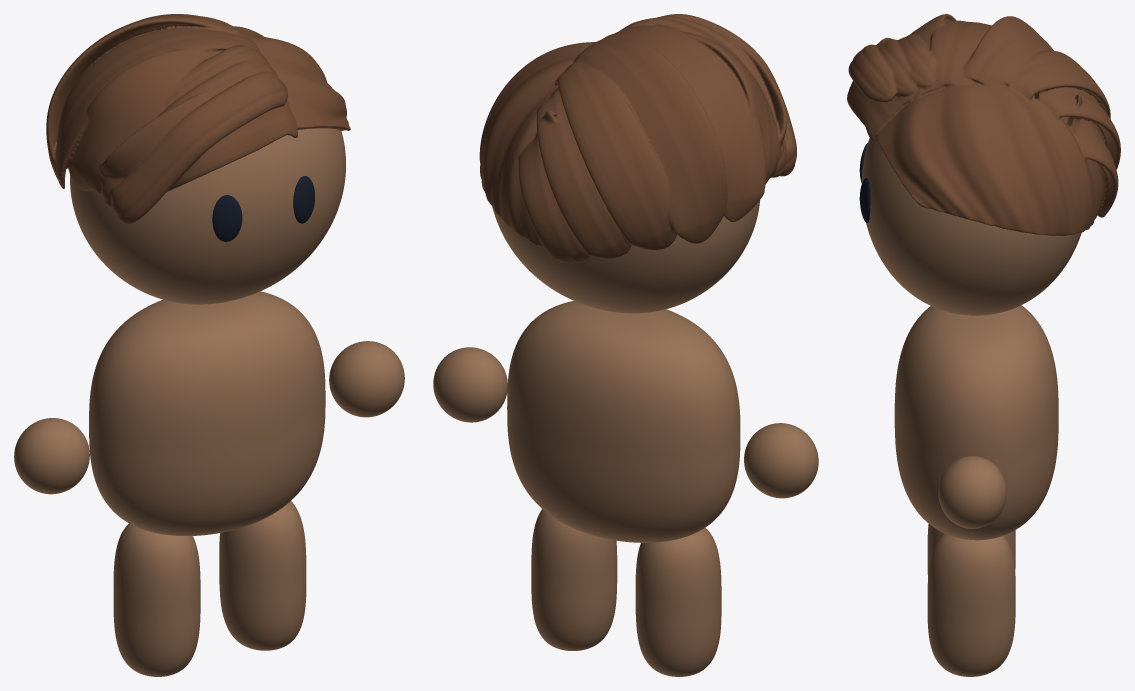
The model's file is Masculine-skin2.glb.
3 views of the same model, side by side, from view 1: azimuth 30°, elevation 25°; view 2: azimuth 150°, elevation 25°; view 3: azimuth 270°, elevation 25° (orthographic). The views are drawn at different scales.
Visible parts, largest first — view 1: Skin / compact torso, Hair / Side part blended sculpt, Skin / soft oval head, Skin / leg -1, Skin / leg 1, Skin / hand 1, Skin / hand -1, Eye / dark oval -1, Eye / dark oval 1; view 2: Hair / Side part blended sculpt, Skin / compact torso, Skin / soft oval head, Skin / leg -1, Skin / leg 1, Skin / hand 1, Skin / hand -1; view 3: Hair / Side part blended sculpt, Skin / compact torso, Skin / soft oval head, Skin / leg 1, Skin / hand 1, Skin / leg -1, Eye / dark oval 1.
Part boxes in pixels (box(x1,y1,x2,y2)): Skin / compact torso: box(89, 291, 325, 535); Hair / Side part blended sculpt: box(46, 14, 350, 224); Skin / soft oval head: box(70, 128, 345, 304); Skin / leg -1: box(113, 523, 200, 676); Skin / leg 1: box(219, 501, 306, 650); Skin / hand 1: box(329, 341, 404, 417); Skin / hand -1: box(14, 418, 89, 494); Eye / dark oval -1: box(212, 195, 242, 241); Eye / dark oval 1: box(293, 176, 314, 223); Hair / Side part blended sculpt: box(479, 14, 796, 263); Skin / compact torso: box(507, 301, 740, 542); Skin / soft oval head: box(492, 200, 759, 313); Skin / leg -1: box(635, 527, 721, 676); Skin / leg 1: box(531, 509, 617, 650); Skin / hand 1: box(433, 347, 507, 422); Skin / hand -1: box(744, 423, 818, 498); Hair / Side part blended sculpt: box(847, 14, 1120, 235); Skin / compact torso: box(894, 305, 1058, 540); Skin / soft oval head: box(861, 138, 1081, 315); Skin / leg 1: box(927, 533, 1015, 676); Skin / hand 1: box(938, 456, 1006, 528); Skin / leg -1: box(927, 524, 1015, 576); Eye / dark oval 1: box(859, 178, 870, 223).
Bounding box in the file's own units: 1.49 × 2.38 × 0.9751.
